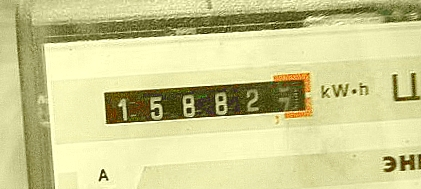1: (116, 93, 131, 122)
2: (243, 86, 261, 113)
5: (147, 93, 166, 124)
7: (276, 93, 290, 111)
8: (179, 91, 197, 120), (212, 88, 229, 117)
screen: (91, 63, 320, 137)
